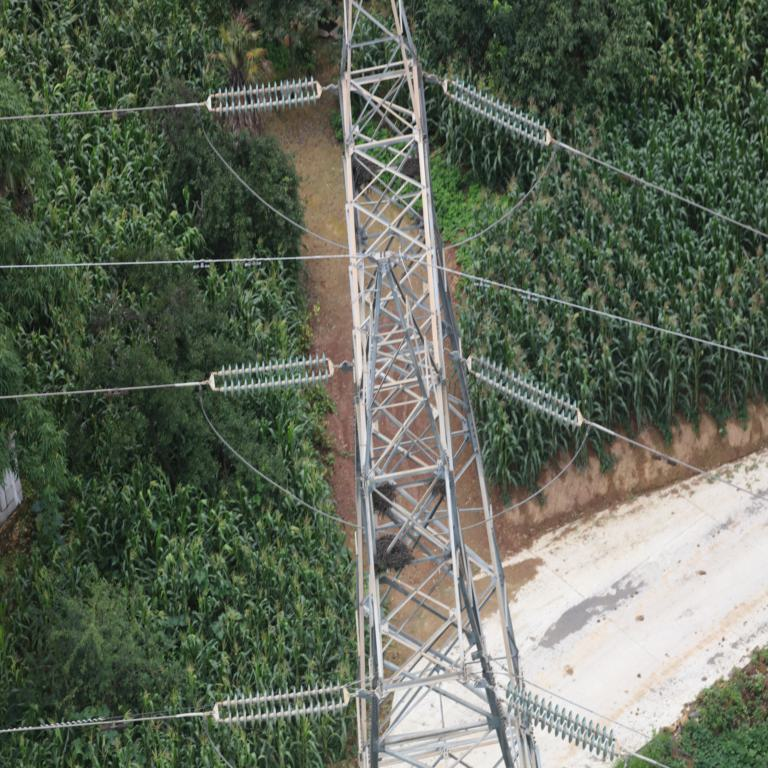nest: (375, 535, 415, 570), (351, 156, 373, 189), (425, 470, 451, 496), (373, 483, 395, 513)
